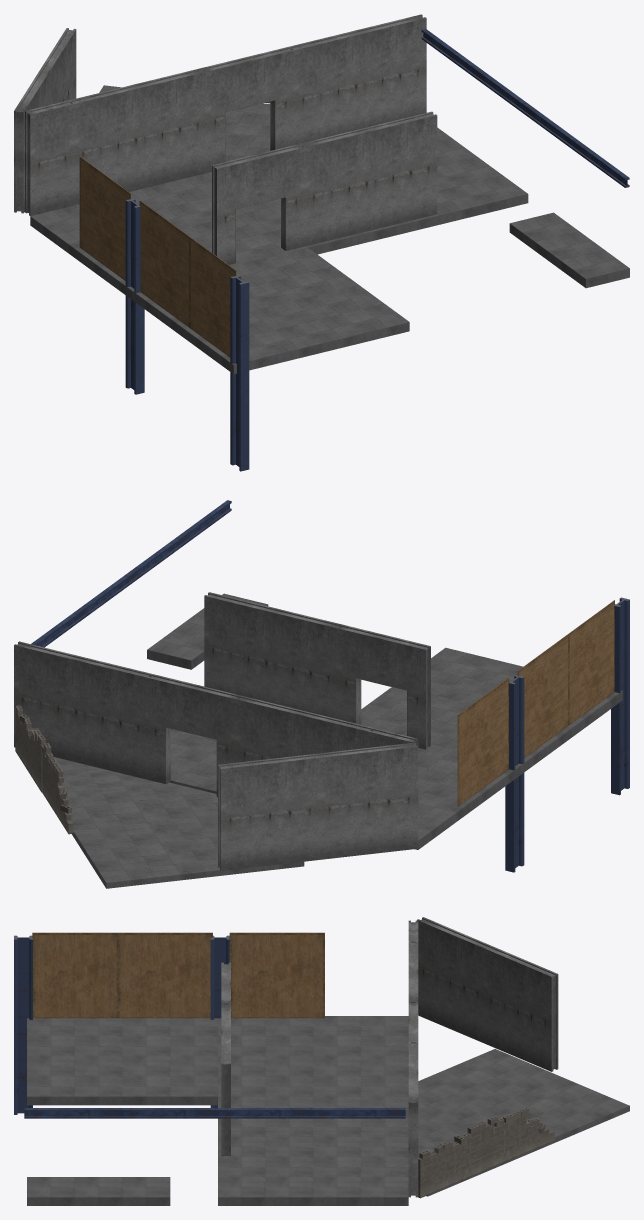
File: BuildingMap_3_1.gltf
3 views of the same model, one above another, from view 1: azimuth 30°, elevation 25°; view 2: azimuth 150°, elevation 25°; view 3: azimuth 270°, elevation 25° (orthographic). The views are drawn at different scales.
Parts seen in each view (by area): view 1: SM_Floors_Thick_58, SM_Building_Pieces_WallConcrete6m12, SM_Building_Pieces_WallConcrete6m25, SM_Building_Pieces_WallConcrete6m24, SM_Floors_Thick_52, SM_Building_Pieces_Wall4m_Door8, SM_Building_Pieces_Wall4m_Door2, SM_BP_WallCon_2x5, SM_Wall_Inside_40, SM_Wall_Inside_39, SM_BP_WallCon_8x27, SM_Wall_Inside_41 (+14 smaller); view 2: SM_BP_WallCon_8x27, SM_Building_Pieces_WallConcrete6m25, SM_Floors_Thick_171, SM_Building_Pieces_WallConcrete6m12, SM_Floors_Thick_58, SM_Building_Pieces_Wall4m_Door8, SM_Building_Pieces_Wall4m_Door2, SM_Building_Pieces_WallConcrete6m24, SM_Wall_Inside_39, SM_Floors_Thick_52, SM_Wall_Inside_40, SM_Wall_Inside_41 (+12 smaller); view 3: SM_Floors_Thick_58, SM_Floors_Thick_52, SM_BP_WallCon_8x27, SM_Floors_Thick_51, SM_Floors_Thick_171, SM_Wall_Inside_39, SM_Wall_Inside_40, SM_Wall_Inside_41, SM_BW_BrickWall4mHalf5, SM_Building_Pieces_2_SteelRudder203, SM_BW_BrickWall4mHalf6, SM_Building_Pieces_WallConcrete6m25 (+17 smaller).
Boxes of the visible parts, box(x1,y1,x2,y2) form: SM_Floors_Thick_58: box(132, 247, 409, 374); SM_Building_Pieces_WallConcrete6m12: box(300, 111, 437, 246); SM_Building_Pieces_WallConcrete6m25: box(290, 14, 426, 144); SM_Building_Pieces_WallConcrete6m24: box(69, 68, 206, 205); SM_Floors_Thick_52: box(30, 173, 307, 299); SM_Building_Pieces_Wall4m_Door8: box(212, 144, 304, 264); SM_Building_Pieces_Wall4m_Door2: box(201, 46, 294, 172); SM_BP_WallCon_2x5: box(25, 100, 74, 215); SM_Wall_Inside_40: box(139, 200, 190, 327); SM_Wall_Inside_39: box(79, 156, 130, 280); SM_BP_WallCon_8x27: box(14, 28, 76, 213); SM_Wall_Inside_41: box(190, 237, 236, 357); SM_BP_WallCon_8x27: box(218, 742, 418, 870); SM_Building_Pieces_WallConcrete6m25: box(14, 641, 151, 779); SM_Floors_Thick_171: box(67, 785, 304, 888); SM_Building_Pieces_WallConcrete6m12: box(204, 592, 341, 718); SM_Floors_Thick_58: box(361, 647, 622, 774); SM_Building_Pieces_Wall4m_Door8: box(337, 624, 430, 749); SM_Building_Pieces_Wall4m_Door2: box(147, 674, 240, 796); SM_Building_Pieces_WallConcrete6m24: box(235, 695, 373, 762); SM_Wall_Inside_39: box(457, 677, 509, 806); SM_Floors_Thick_52: box(415, 744, 520, 849); SM_Wall_Inside_40: box(517, 634, 569, 757); SM_Wall_Inside_41: box(568, 600, 614, 724); SM_Floors_Thick_58: box(27, 1018, 217, 1105); SM_Floors_Thick_52: box(218, 1016, 408, 1096); SM_BP_WallCon_8x27: box(417, 917, 558, 1071); SM_Floors_Thick_51: box(218, 1096, 408, 1176); SM_Floors_Thick_171: box(418, 1049, 629, 1167); SM_Wall_Inside_39: box(229, 932, 324, 1018); SM_Wall_Inside_40: box(118, 932, 212, 1018); SM_Wall_Inside_41: box(32, 932, 118, 1018); SM_BW_BrickWall4mHalf5: box(418, 1121, 487, 1198); SM_Building_Pieces_2_SteelRudder203: box(14, 935, 32, 1114); SM_BW_BrickWall4mHalf6: box(486, 1107, 554, 1169); SM_Building_Pieces_WallConcrete6m25: box(408, 1041, 418, 1197).
Size of the model in its own units: 18.37 by 8.8 by 25.83.
Materials: 5 (5 with a texture image).
